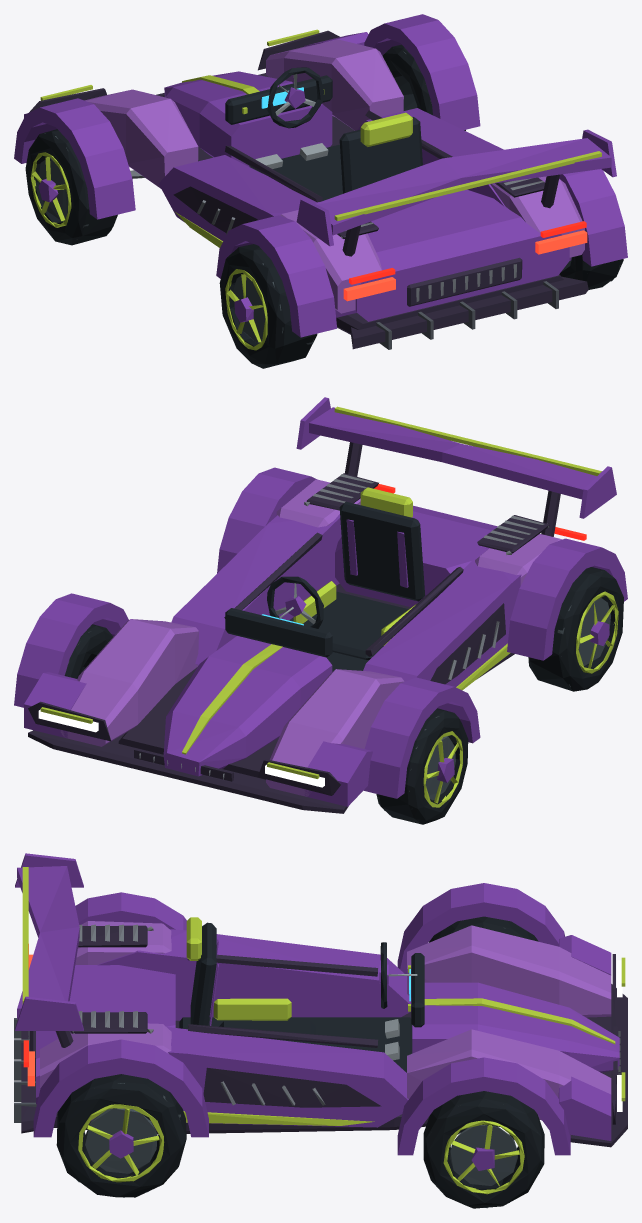
File: apex_lod1.glb
3 views of the same model, one above another, from view 1: azimuth 30°, elevation 25°; view 2: azimuth 150°, elevation 25°; view 3: azimuth 270°, elevation 25° (orthographic). The views are drawn at different scales.
Parts seen in each view (by area): view 1: body_mesh, wheel_rl, wheel_fl, wheel_fr, steering_wheel, light_tail_mesh, wheel_rr, light_brake_mesh; view 2: body_mesh, wheel_rl, wheel_fl, steering_wheel, wheel_fr, light_head_mesh; view 3: body_mesh, wheel_rr, wheel_fr, wheel_fl, steering_wheel.
Part boxes in pixels (x1,y1,x2,y2): body_mesh: [14, 14, 627, 349]; wheel_rl: [219, 244, 317, 368]; wheel_fl: [25, 129, 117, 245]; wheel_fr: [382, 44, 465, 130]; steering_wheel: [267, 67, 323, 128]; light_tail_mesh: [343, 230, 587, 301]; wheel_rr: [559, 254, 623, 289]; light_brake_mesh: [349, 221, 586, 284]; body_mesh: [14, 397, 627, 813]; wheel_rl: [528, 567, 623, 691]; wheel_fl: [376, 708, 468, 824]; steering_wheel: [267, 576, 323, 628]; wheel_fr: [64, 624, 112, 678]; light_head_mesh: [38, 709, 324, 787]; body_mesh: [14, 853, 627, 1155]; wheel_rr: [56, 1074, 186, 1197]; wheel_fr: [423, 1091, 544, 1208]; wheel_fl: [429, 916, 538, 942]; steering_wheel: [379, 942, 388, 1008].
Bounding box in the file's own units: 2.33 × 0.99 × 2.95.
